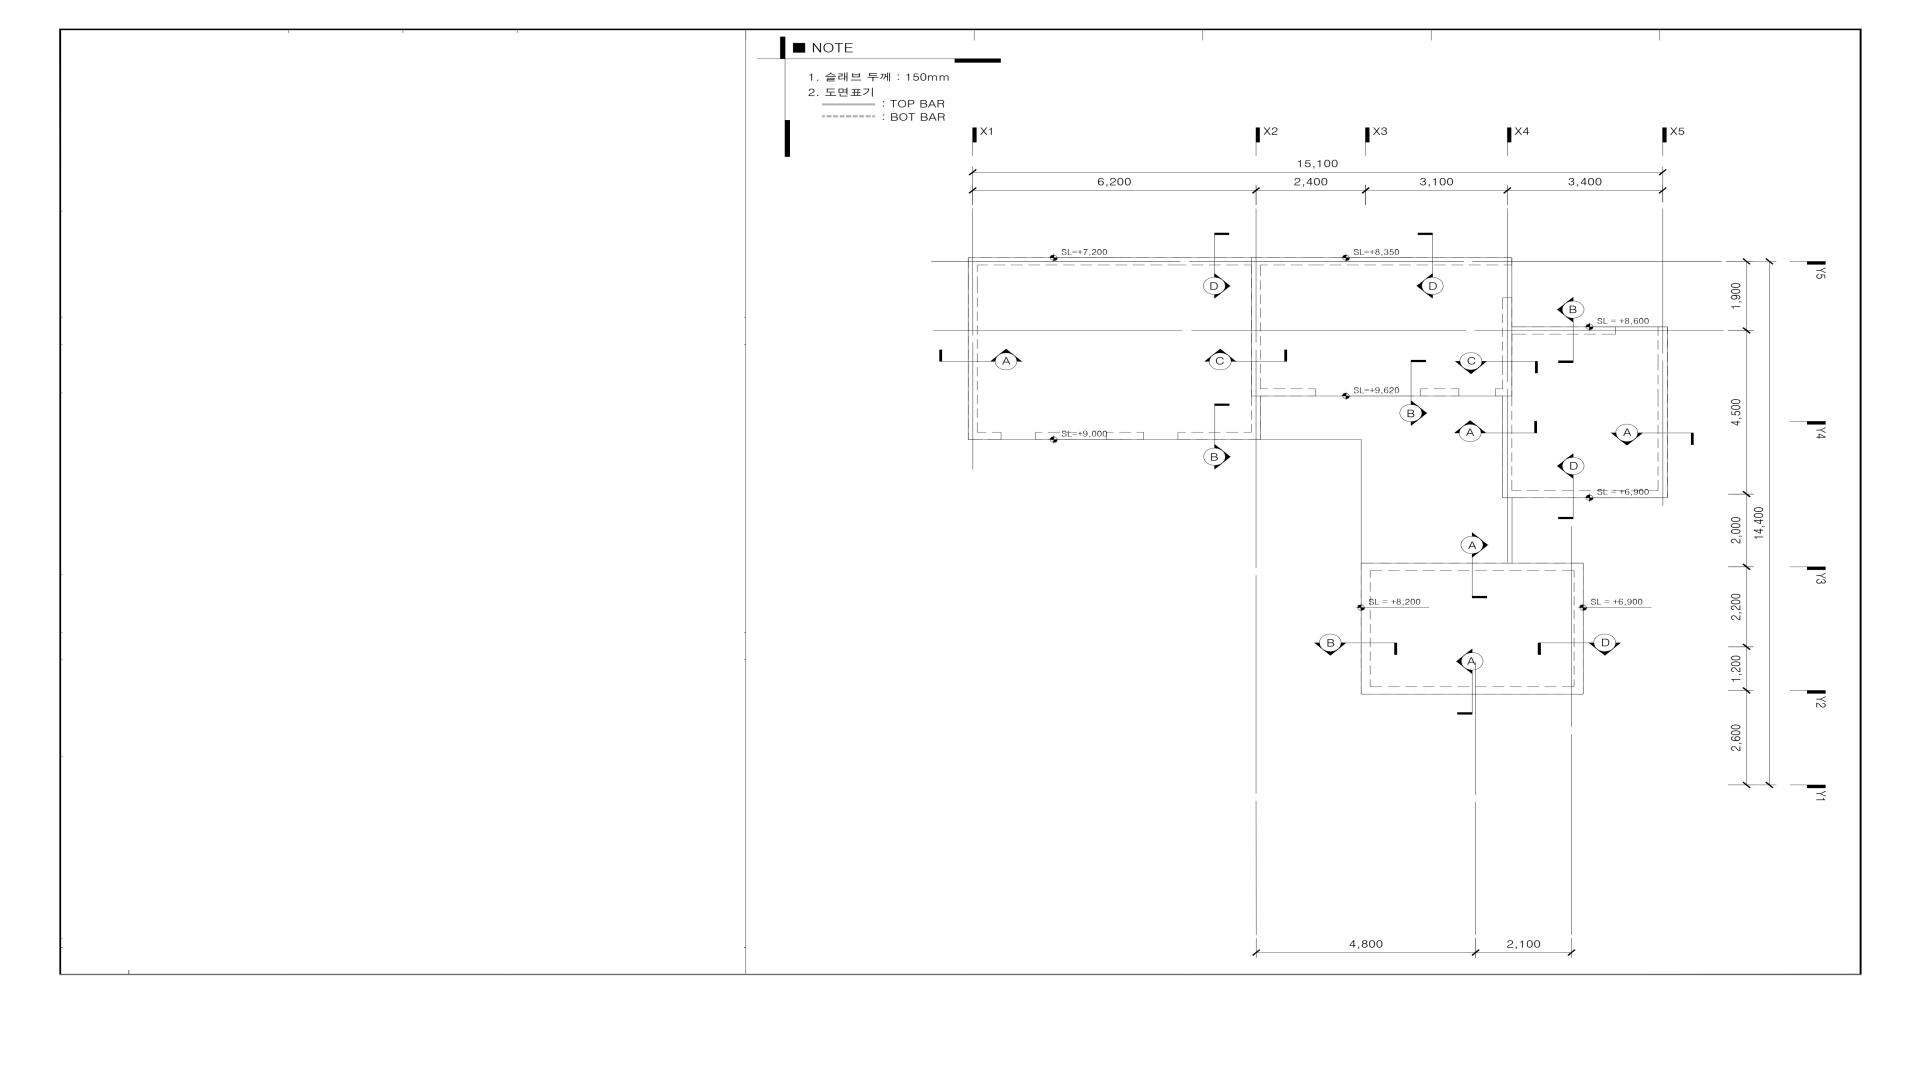wall: (968, 257, 1251, 265), (1251, 257, 1513, 265), (1658, 327, 1668, 498), (1361, 687, 1584, 695), (1361, 563, 1584, 571), (968, 265, 977, 433), (1572, 571, 1584, 687), (1251, 265, 1261, 396), (1513, 491, 1658, 498), (1502, 396, 1513, 498), (1361, 571, 1370, 687), (1502, 298, 1513, 389), (1513, 327, 1615, 335), (1035, 433, 1143, 439), (1178, 433, 1251, 439), (1251, 396, 1261, 440), (1261, 389, 1316, 396), (1420, 389, 1460, 396), (968, 433, 1001, 440), (1495, 389, 1513, 396)
